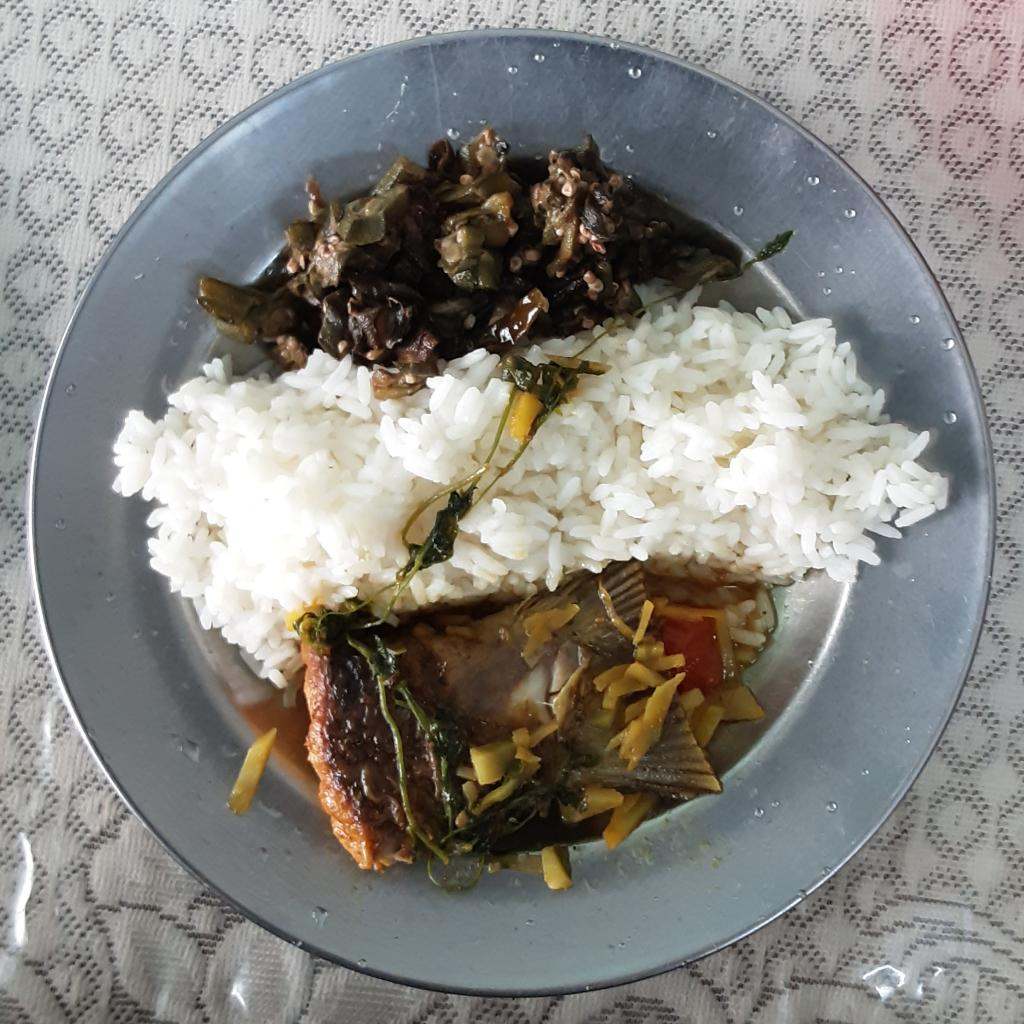fish: (295, 560, 721, 872)
okra: (190, 130, 740, 401)
potato: (600, 599, 768, 774), (453, 656, 578, 831), (563, 789, 656, 857), (224, 729, 282, 826), (521, 604, 584, 661), (531, 846, 578, 891)
rice: (110, 274, 954, 709)
